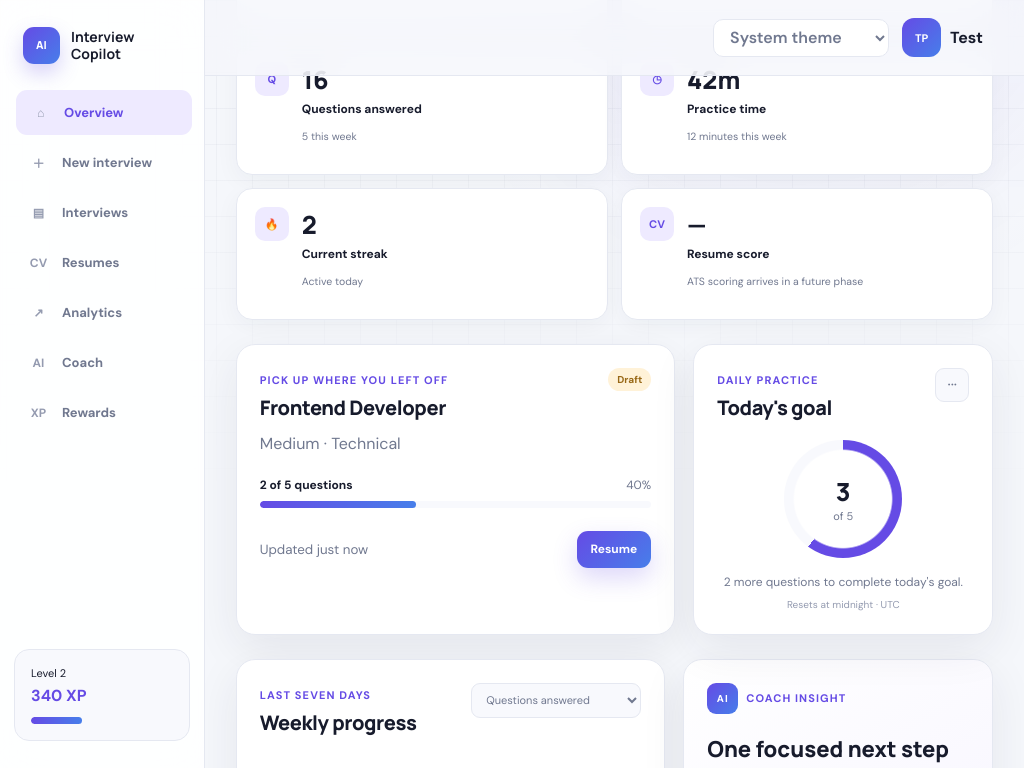
Test case: premium dashboard › updates the daily goal and refreshes dashboard data
(page scrolled)
Check: the heading "Weekly progress" is shown, box [260,709,417,736]
Click the button named "Edit daily goal".
click(952, 385)  # box [935,368,969,402]
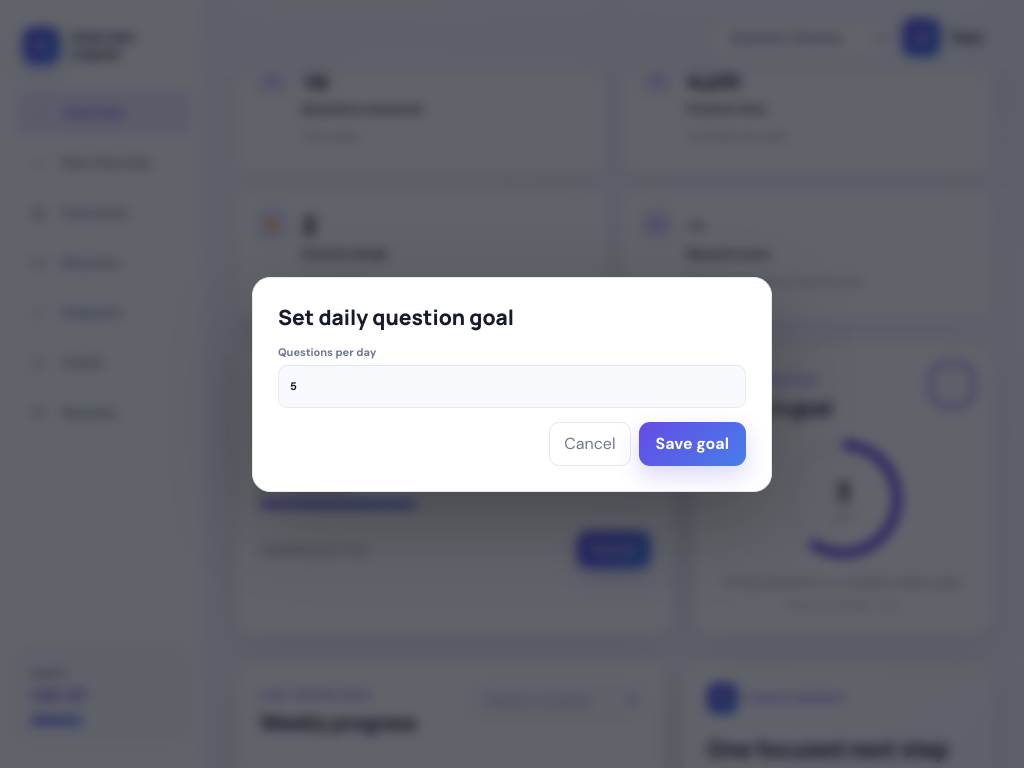
Replace the text in the number field labelled "Questions per day" with "8" at (512, 386), box [278,364,746,408]
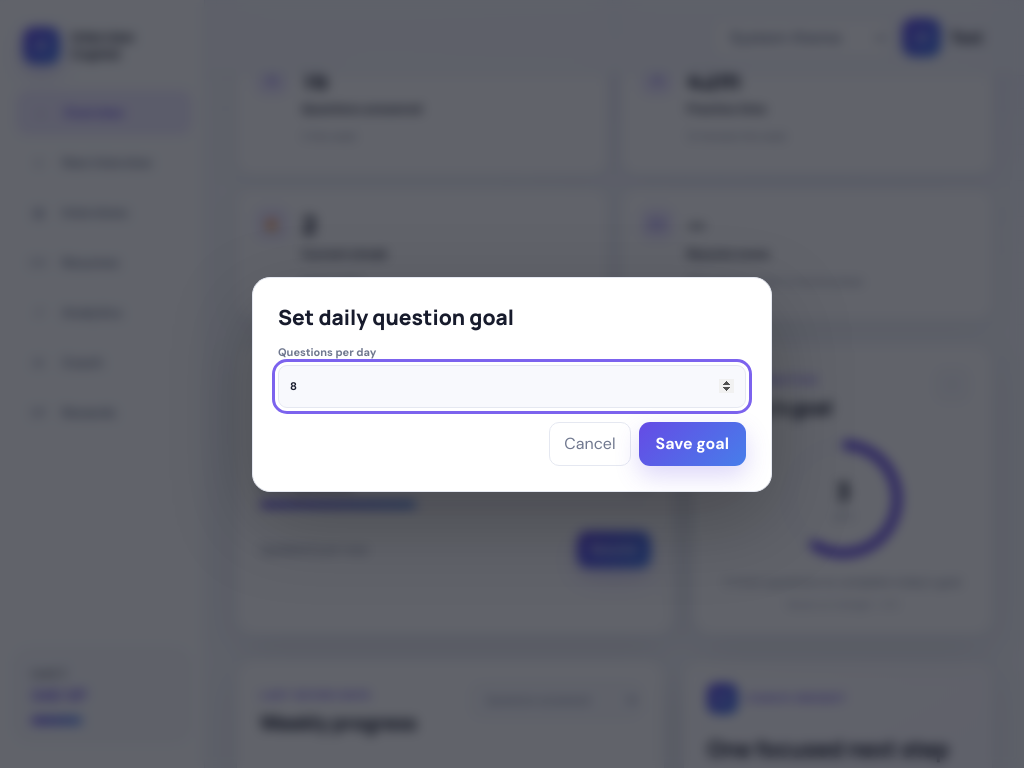
Click the button "Save goal".
click(692, 444)  # box [638,422,746,466]
(page scrolled)
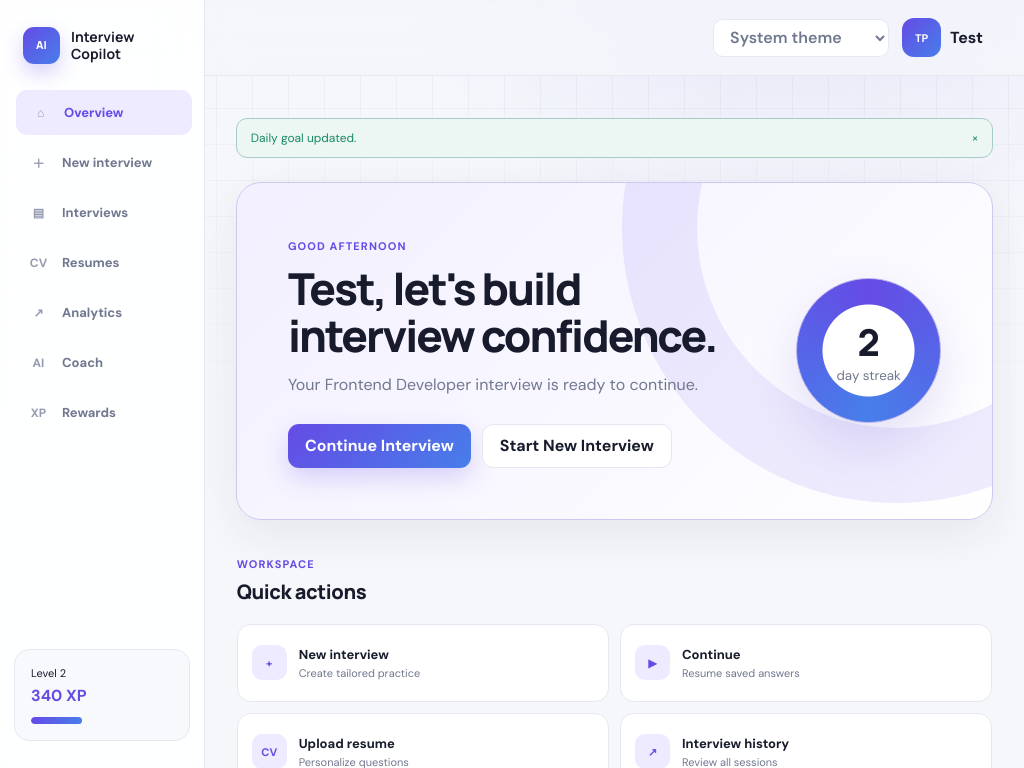
Check: the text "Daily goal updated." is shown, box [251,130,356,146]
